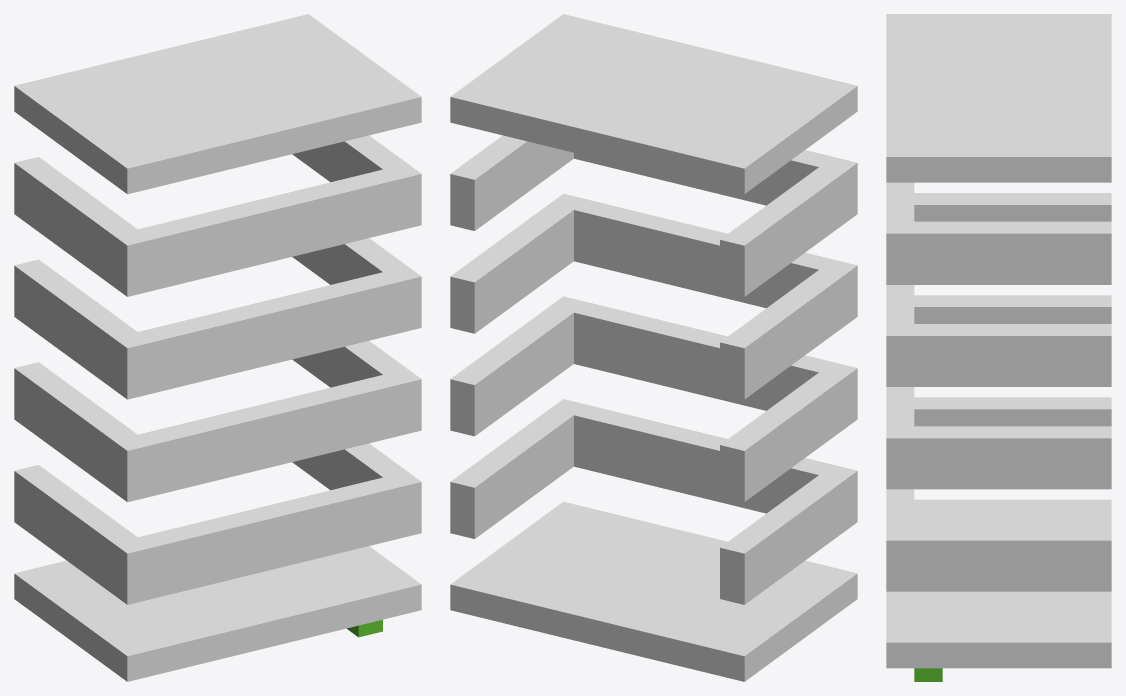
The model's file is alien_lift.fbx.
3 views of the same model, side by side, from view 1: azimuth 30°, elevation 25°; view 2: azimuth 150°, elevation 25°; view 3: azimuth 270°, elevation 25° (orthographic).
Visible parts, largest first — view 1: alien_lift; view 2: alien_lift; view 3: alien_lift.
Boxes of the visible parts, x1,y1,x2,y2 form: alien_lift: (14,14,421,681); alien_lift: (450,14,857,681); alien_lift: (886,14,1111,681).
Bounding box in the file's own units: 1.2 × 0.8 × 2.1.
1 material, 1 textured.
